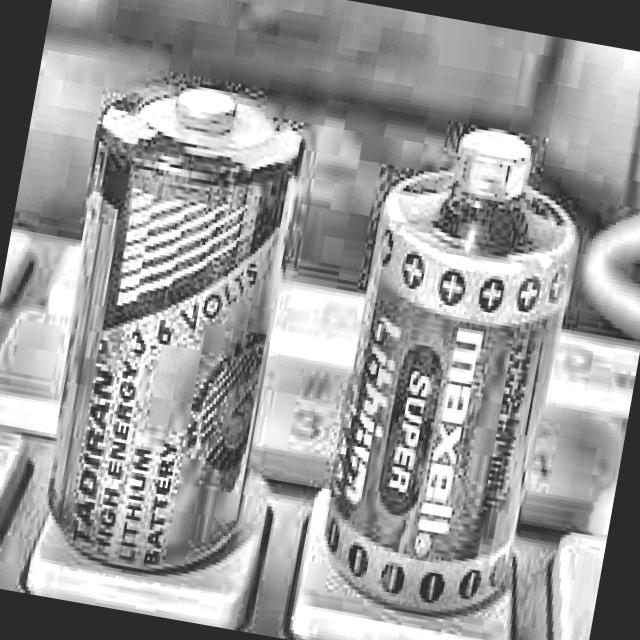Battery: (29, 69, 309, 584), (318, 116, 588, 630)
